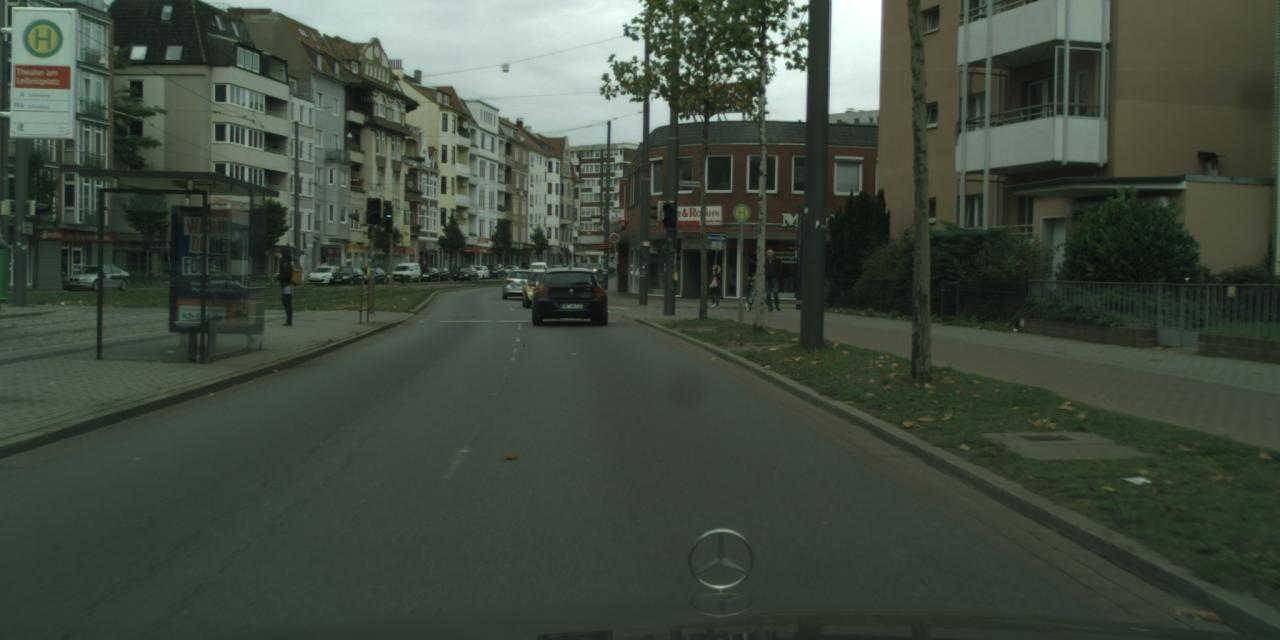ped: (270, 248, 302, 326), (760, 248, 784, 310), (706, 264, 723, 306)
